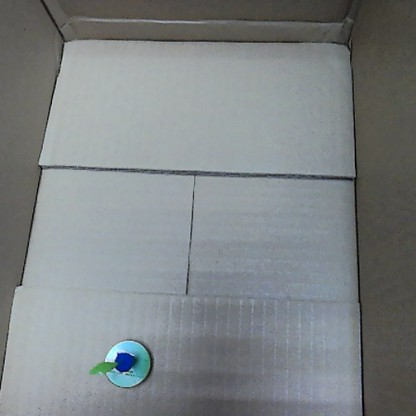leafairy: (86, 337, 154, 390)
